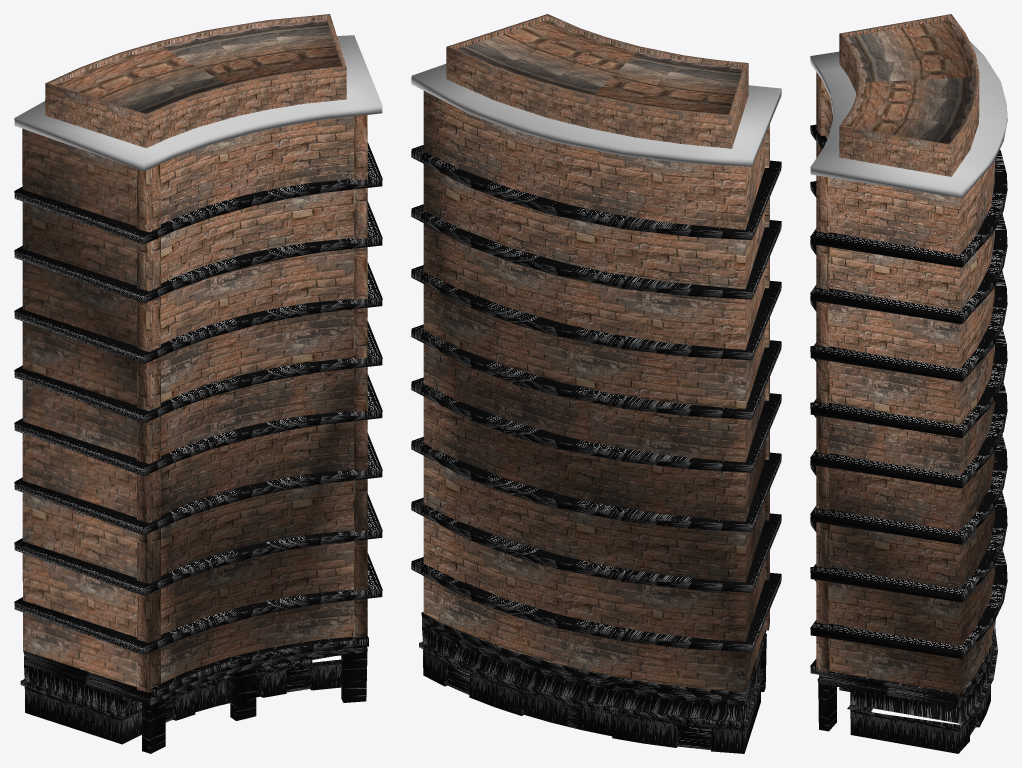
Rendered from SM_Building_03.FBX.
The picture shows the model from 3 angles, left to right: view 1: azimuth 30°, elevation 25°; view 2: azimuth 150°, elevation 25°; view 3: azimuth 270°, elevation 25°; orthographic projection. The views are drawn at different scales.
Parts seen in each view (by area): view 1: SM_Building_03_LOD0; view 2: SM_Building_03_LOD0; view 3: SM_Building_03_LOD0.
Boxes of the visible parts, x1,y1,x2,y2 form: SM_Building_03_LOD0: [14, 14, 382, 753]; SM_Building_03_LOD0: [411, 14, 781, 753]; SM_Building_03_LOD0: [810, 14, 1007, 753].
Size of what is drawn, in the model's own units: 4960 by 8764 by 2616.
